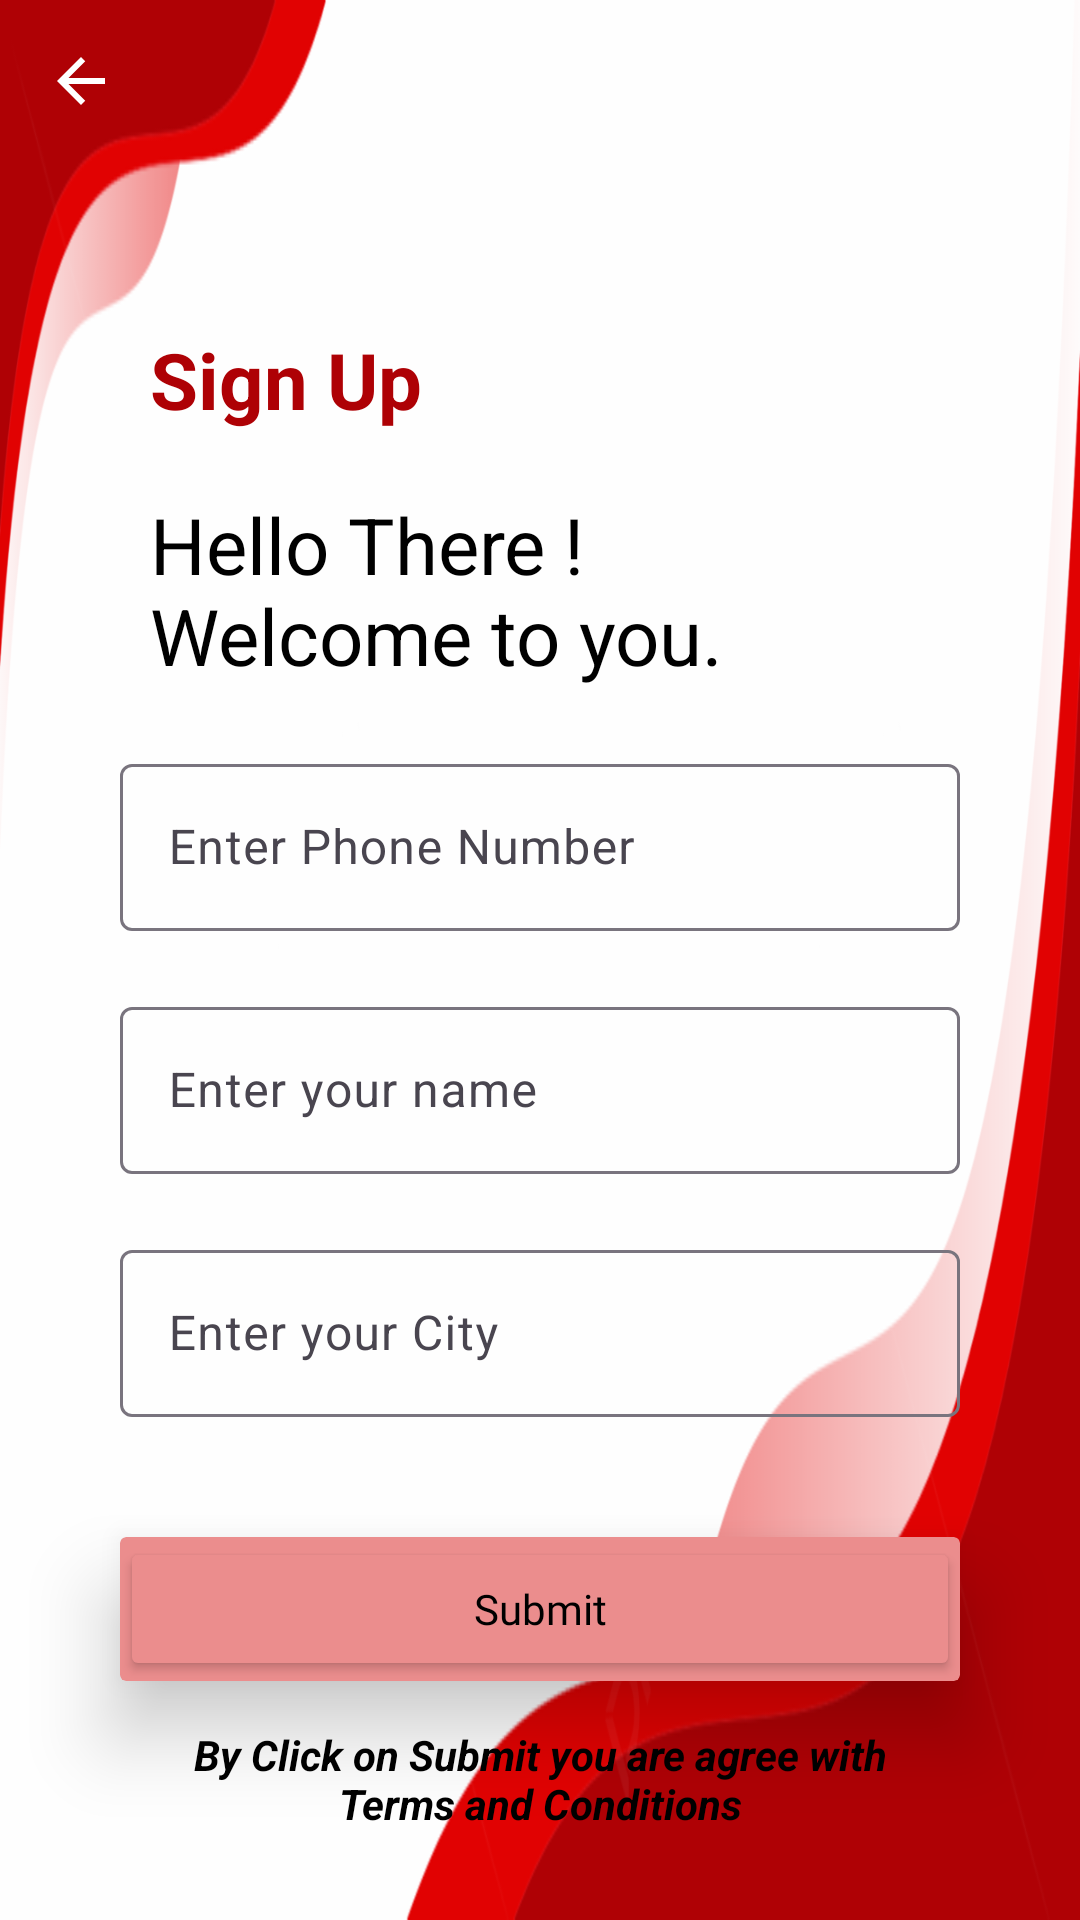

Where icons sit on this 1080px x 1920px app screen, as (x1, y1, x2, y2):
arrow back: (57, 57, 105, 105)
